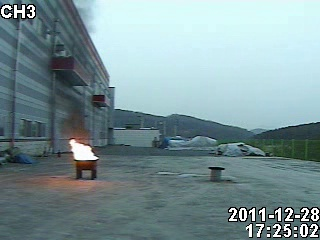fire: (68, 136, 95, 161)
